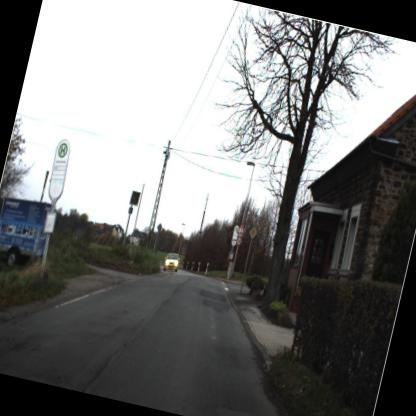danger: (233, 220, 248, 238)
other: (245, 221, 262, 244)
prohibitory: (232, 234, 244, 249)
